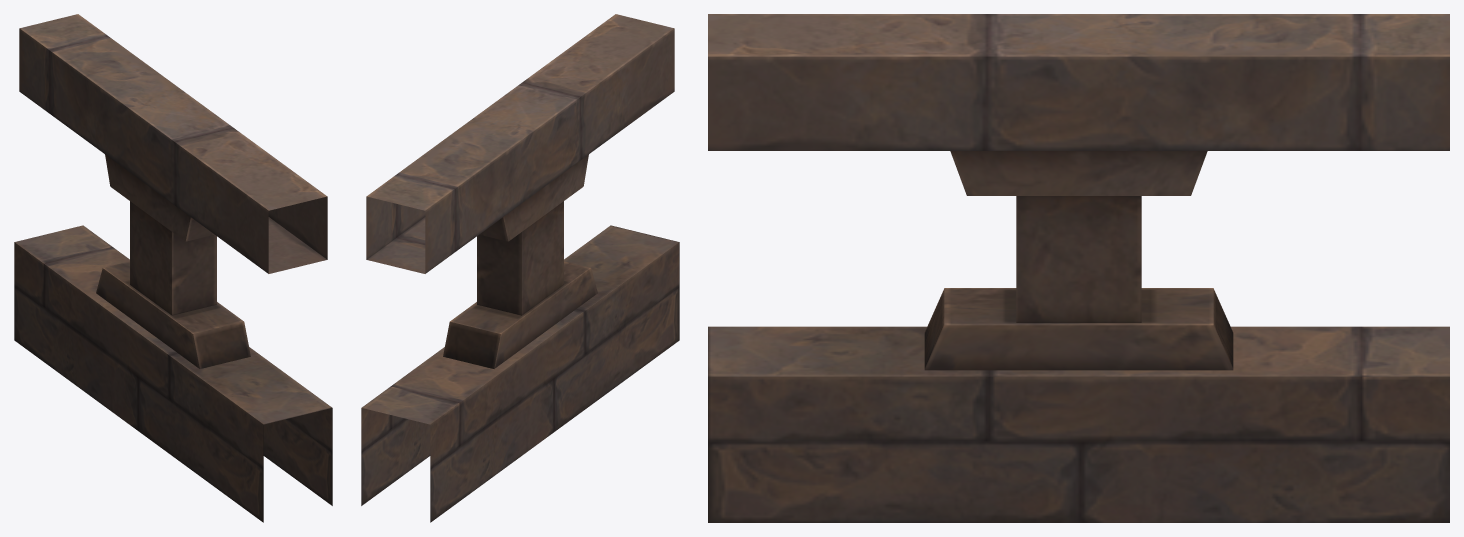
File: huoshan_Wujian_02.FBX
3 renders of one model, left to right at view 1: azimuth 30°, elevation 25°; view 2: azimuth 150°, elevation 25°; view 3: azimuth 270°, elevation 25°, orthographic. The views are drawn at different scales.
Parts seen in each view (by area): view 1: huoshan_Wujian_02; view 2: huoshan_Wujian_02; view 3: huoshan_Wujian_02.
Part boxes in pixels (x1=…): huoshan_Wujian_02: x1=14, y1=14, x2=332, y2=522; huoshan_Wujian_02: x1=361, y1=14, x2=679, y2=522; huoshan_Wujian_02: x1=708, y1=14, x2=1449, y2=522.
Size of the model in its own units: 23.12 by 99.9 by 145.
